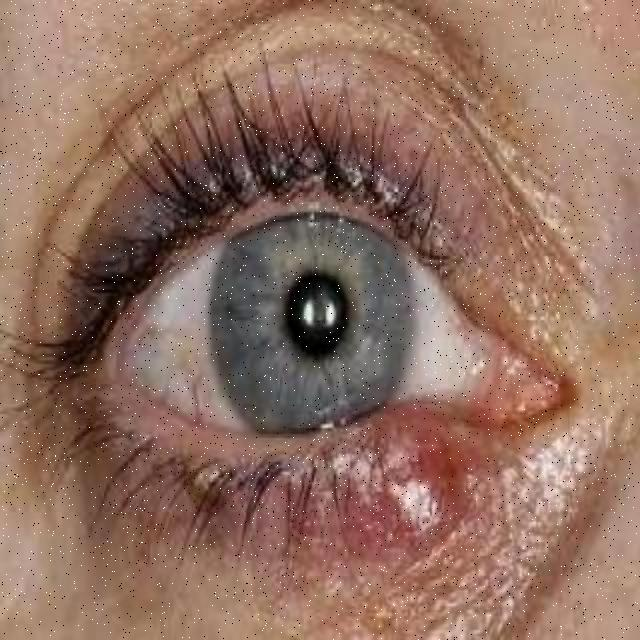Stye: (320, 372, 523, 578)
